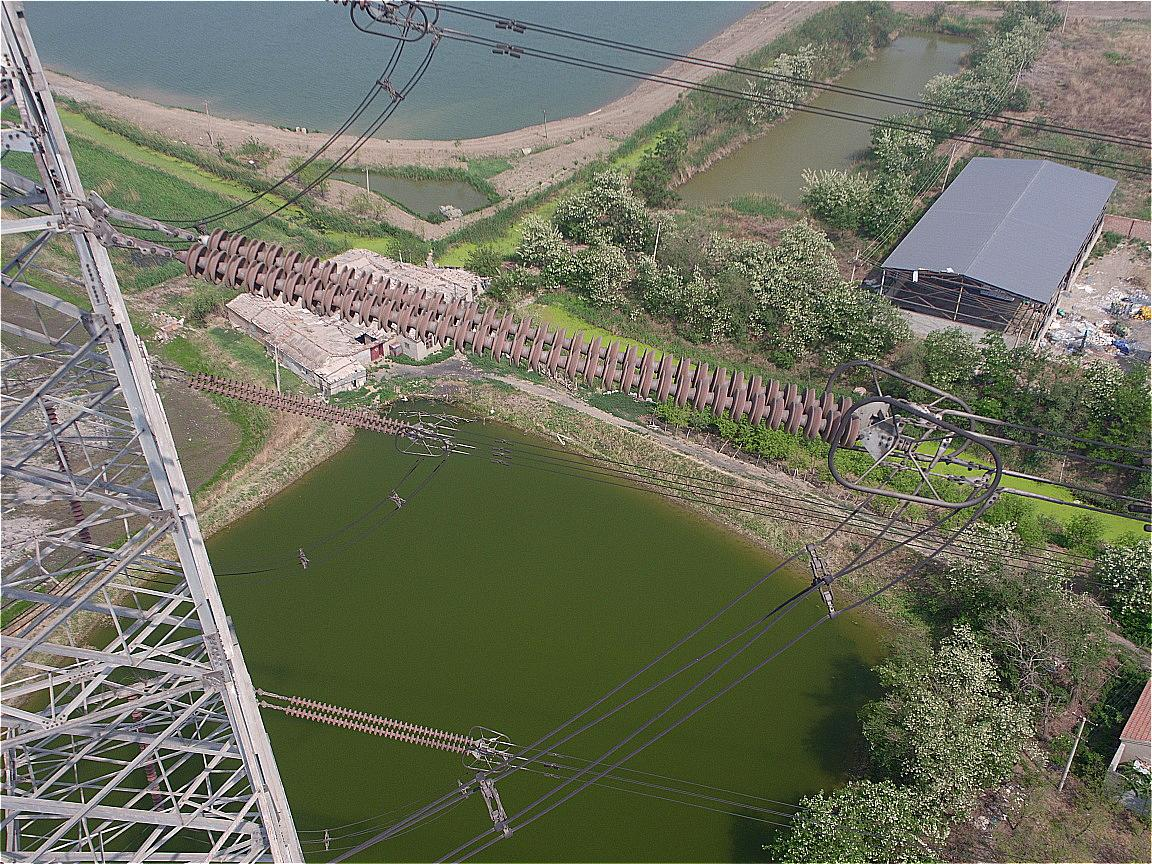insultor1: (190, 365, 410, 439), (285, 694, 476, 759)
insultor2: (187, 226, 862, 448)
